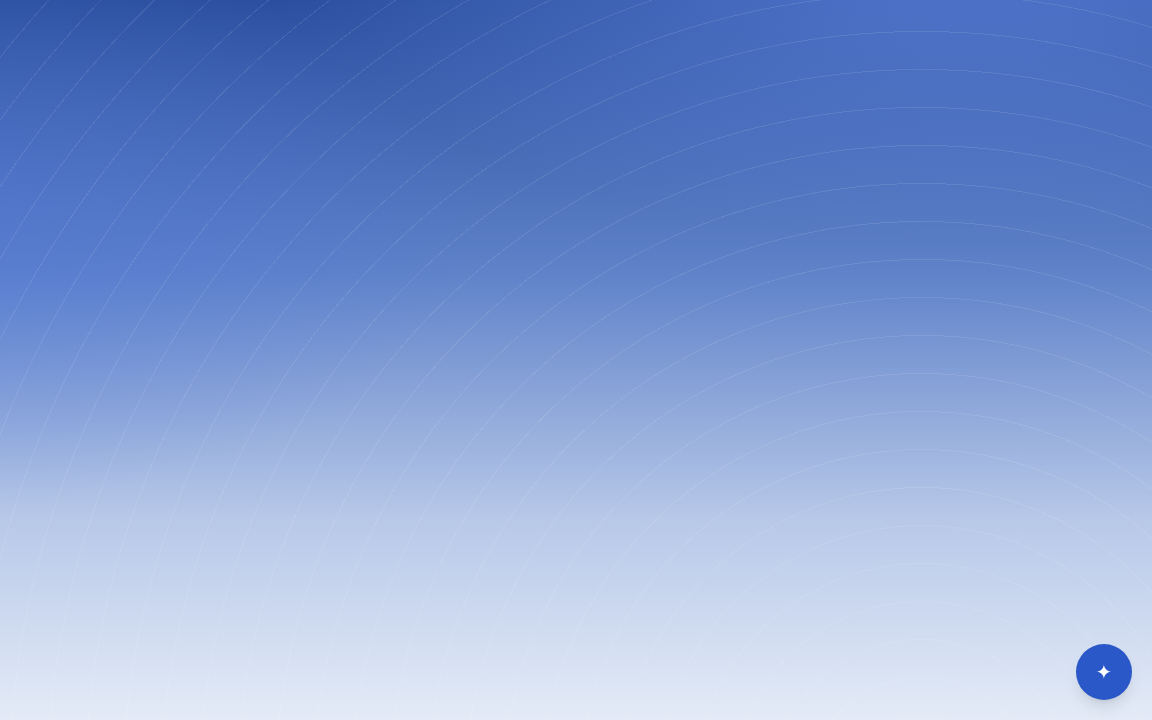
it: ExplainerPanel › offers free text only when the server has a provider and the user has consented
What coordinates should you click on to do the following:
click the button named "AI explainer"
I would click on:
 (1104, 672)
Its box is x1=1076 y1=644 x2=1132 y2=700.
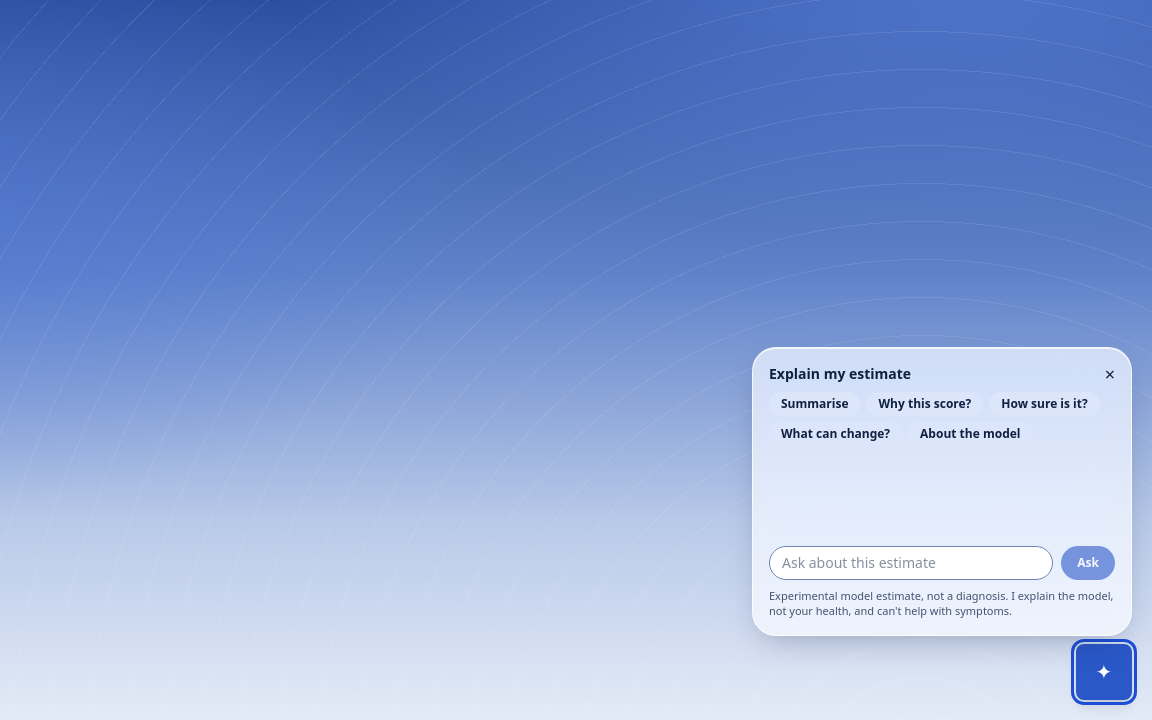
Expected: the field named "Ask a question" is shown, x1=769 y1=546 x2=1053 y2=580
